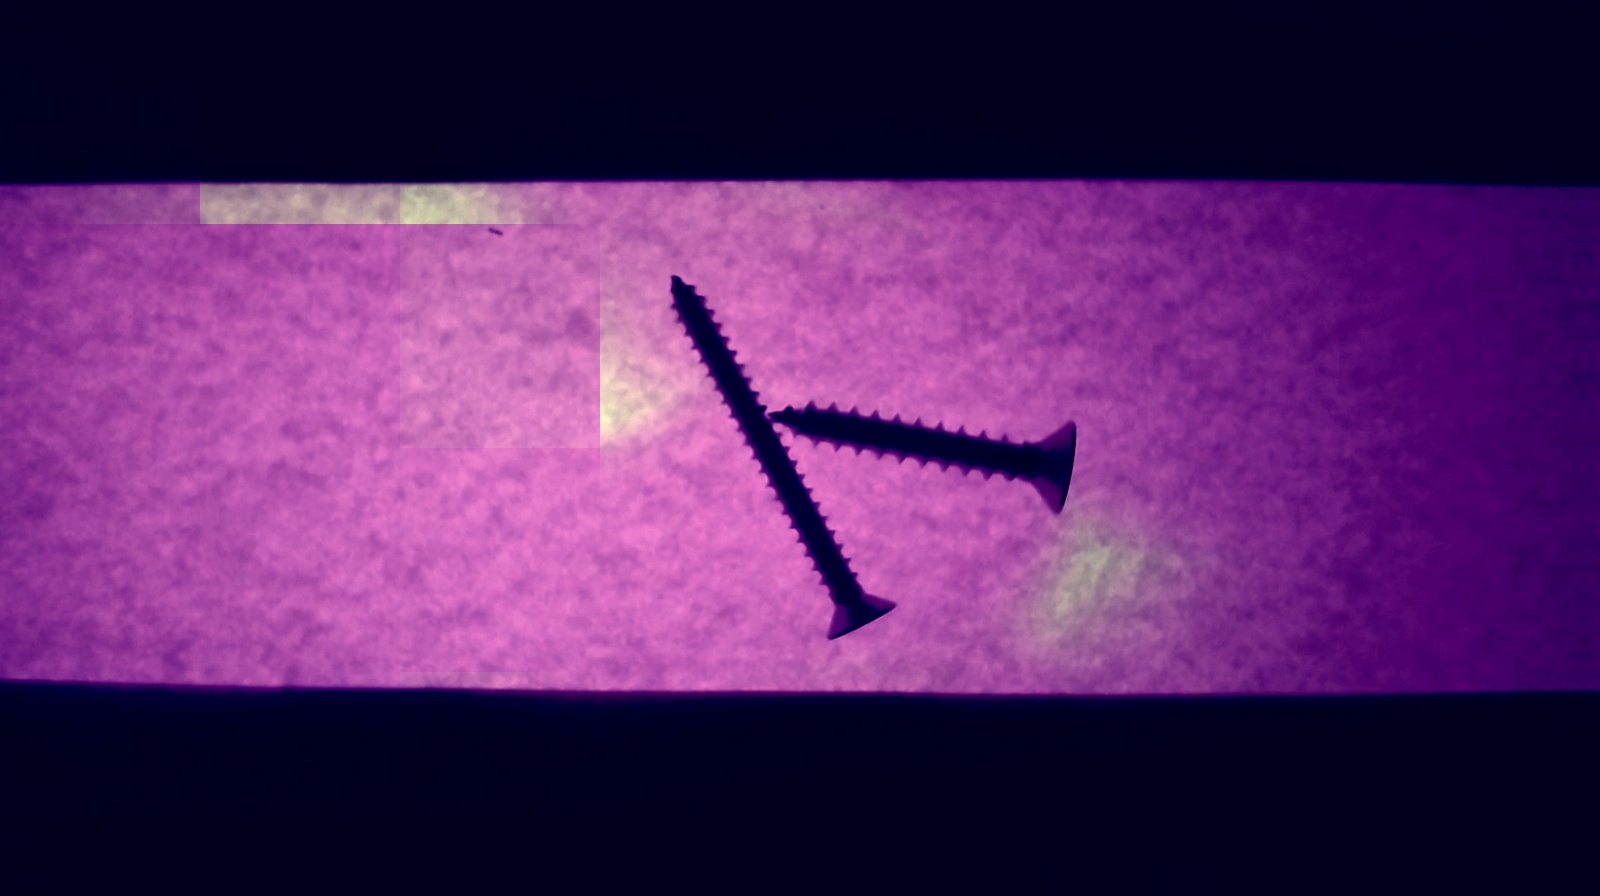S001: (756, 394, 1088, 519)
S002: (651, 261, 905, 652)
